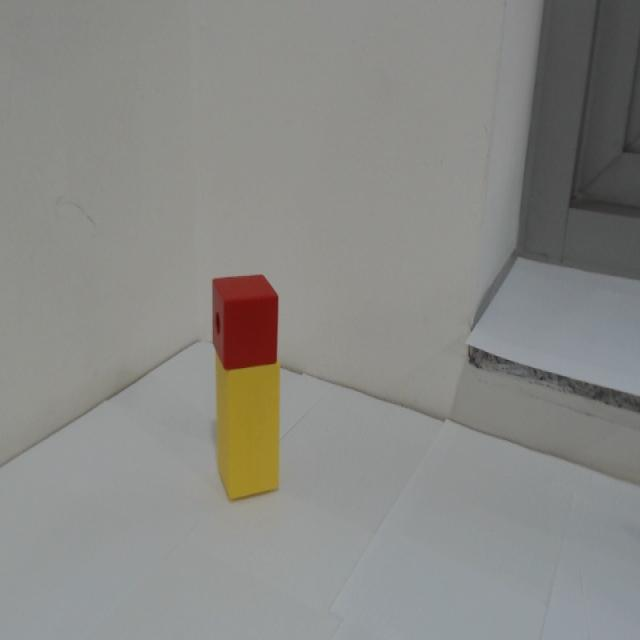cube: (209, 260, 286, 373)
